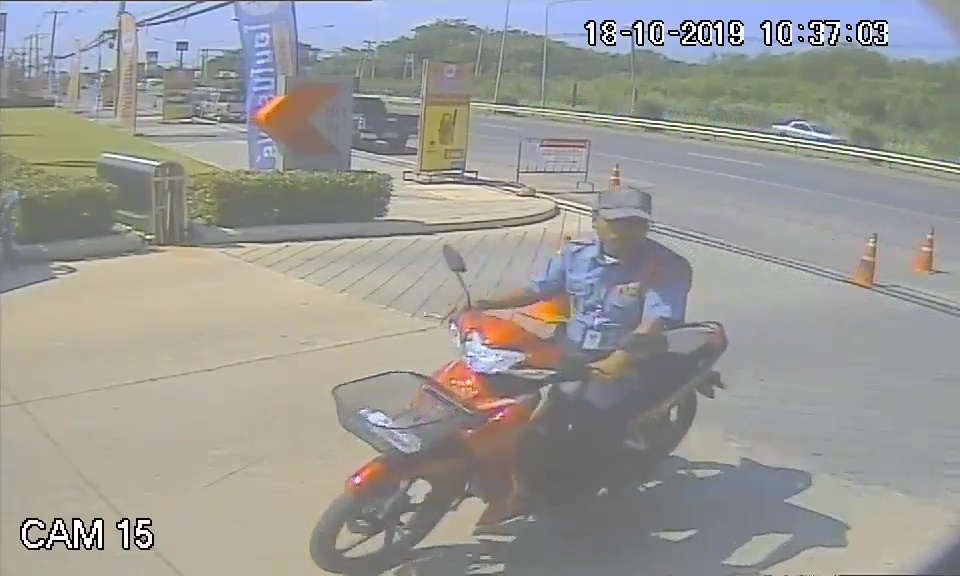motorcycle: (308, 303, 732, 576)
